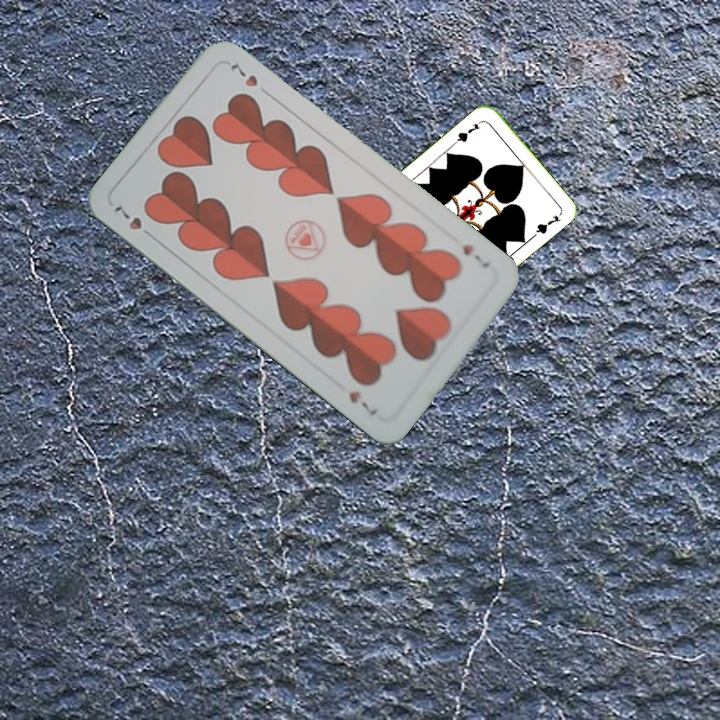G7: (451, 116, 485, 146)
H7: (109, 202, 158, 243), (458, 240, 493, 271)
